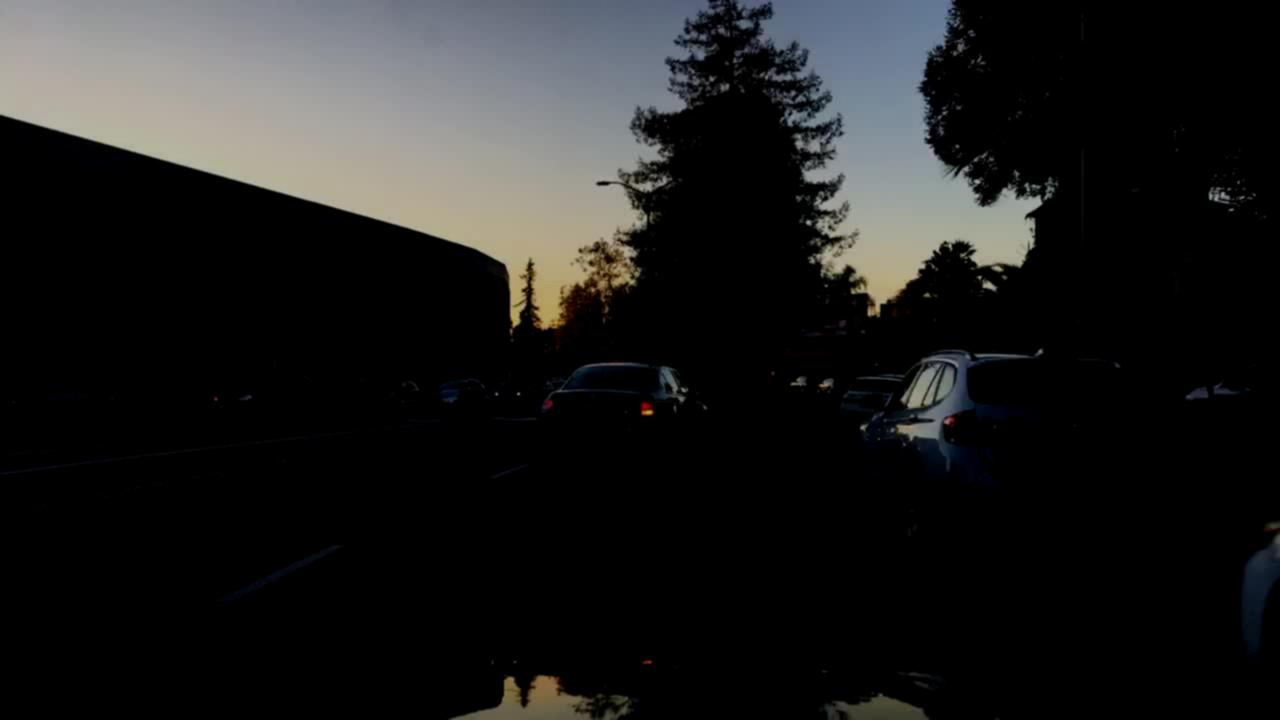Honda: (586, 390, 602, 403)
bmw: (1066, 415, 1092, 440)
